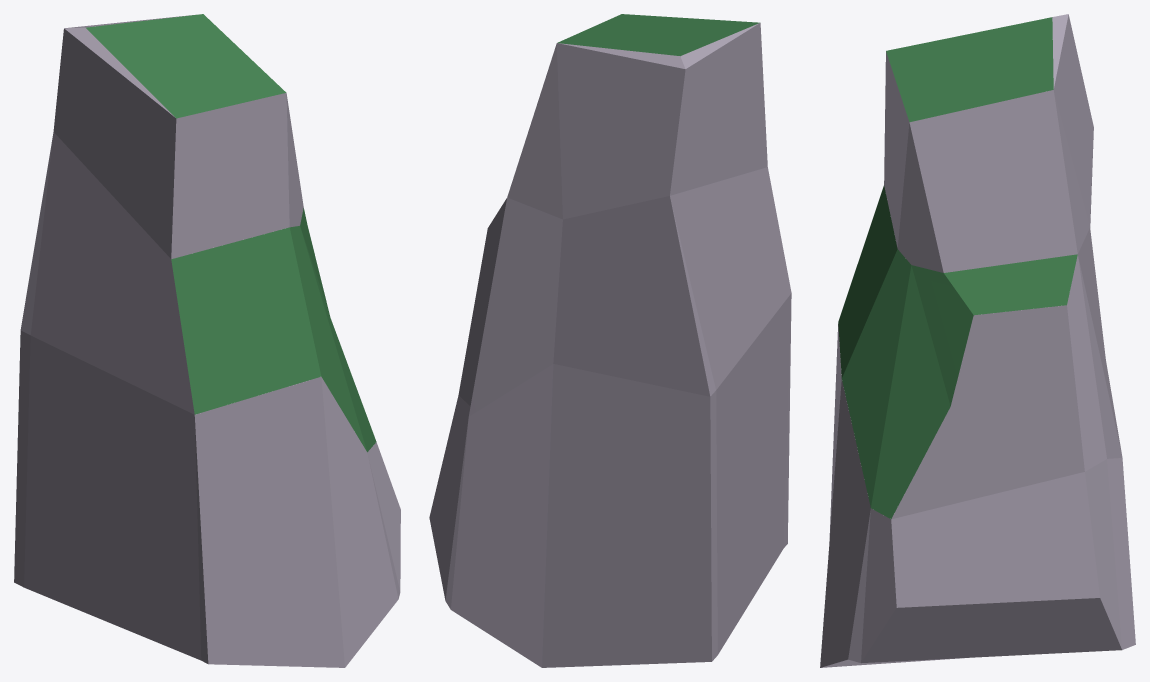
The model's file is Rock_Moss_1-optimized.glb.
3 views of the same model, side by side, from view 1: azimuth 30°, elevation 25°; view 2: azimuth 150°, elevation 25°; view 3: azimuth 270°, elevation 25° (orthographic). The views are drawn at different scales.
Parts seen in each view (by area): view 1: Rock_Moss_1; view 2: Rock_Moss_1; view 3: Rock_Moss_1.
Part boxes in pixels (x1,y1,x2,y2): Rock_Moss_1: (14, 14, 400, 667); Rock_Moss_1: (429, 14, 791, 667); Rock_Moss_1: (820, 14, 1135, 667).
Size of the model in its own units: 0.4853 by 0.95 by 0.4668.
